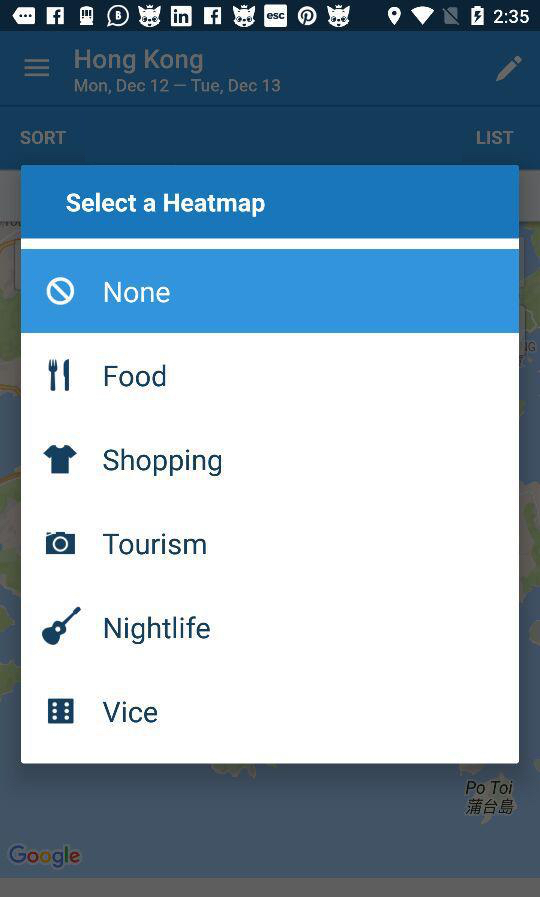Icon: (495, 56, 522, 83), (46, 532, 77, 555), (48, 698, 75, 724), (24, 58, 51, 78)
Image: (42, 607, 83, 645), (45, 445, 78, 474), (47, 277, 75, 307), (49, 359, 72, 391)
Modal: (22, 165, 519, 764)
Text: (66, 193, 265, 218), (75, 79, 281, 96), (104, 449, 222, 478), (75, 49, 204, 75), (104, 615, 211, 644), (103, 533, 207, 557), (104, 281, 172, 303), (105, 365, 167, 388), (103, 700, 158, 724), (21, 130, 68, 146), (476, 131, 514, 146)
UpperTaskBar: (1, 1, 540, 33)
